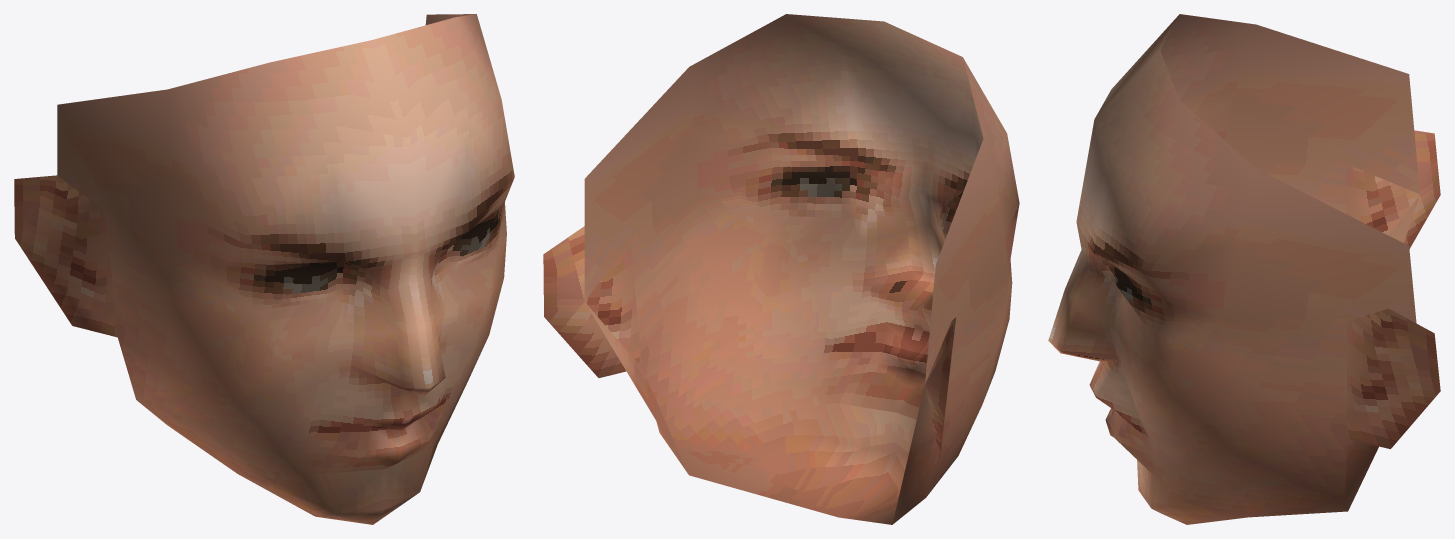
The model's file is m_hair019.glb.
3 renders of one model, left to right at view 1: azimuth 30°, elevation 25°; view 2: azimuth 150°, elevation 25°; view 3: azimuth 270°, elevation 25°, orthographic. The views are drawn at different scales.
Size of the model in its own units: 17.18 by 18.68 by 14.26.
1 material, 1 textured.
